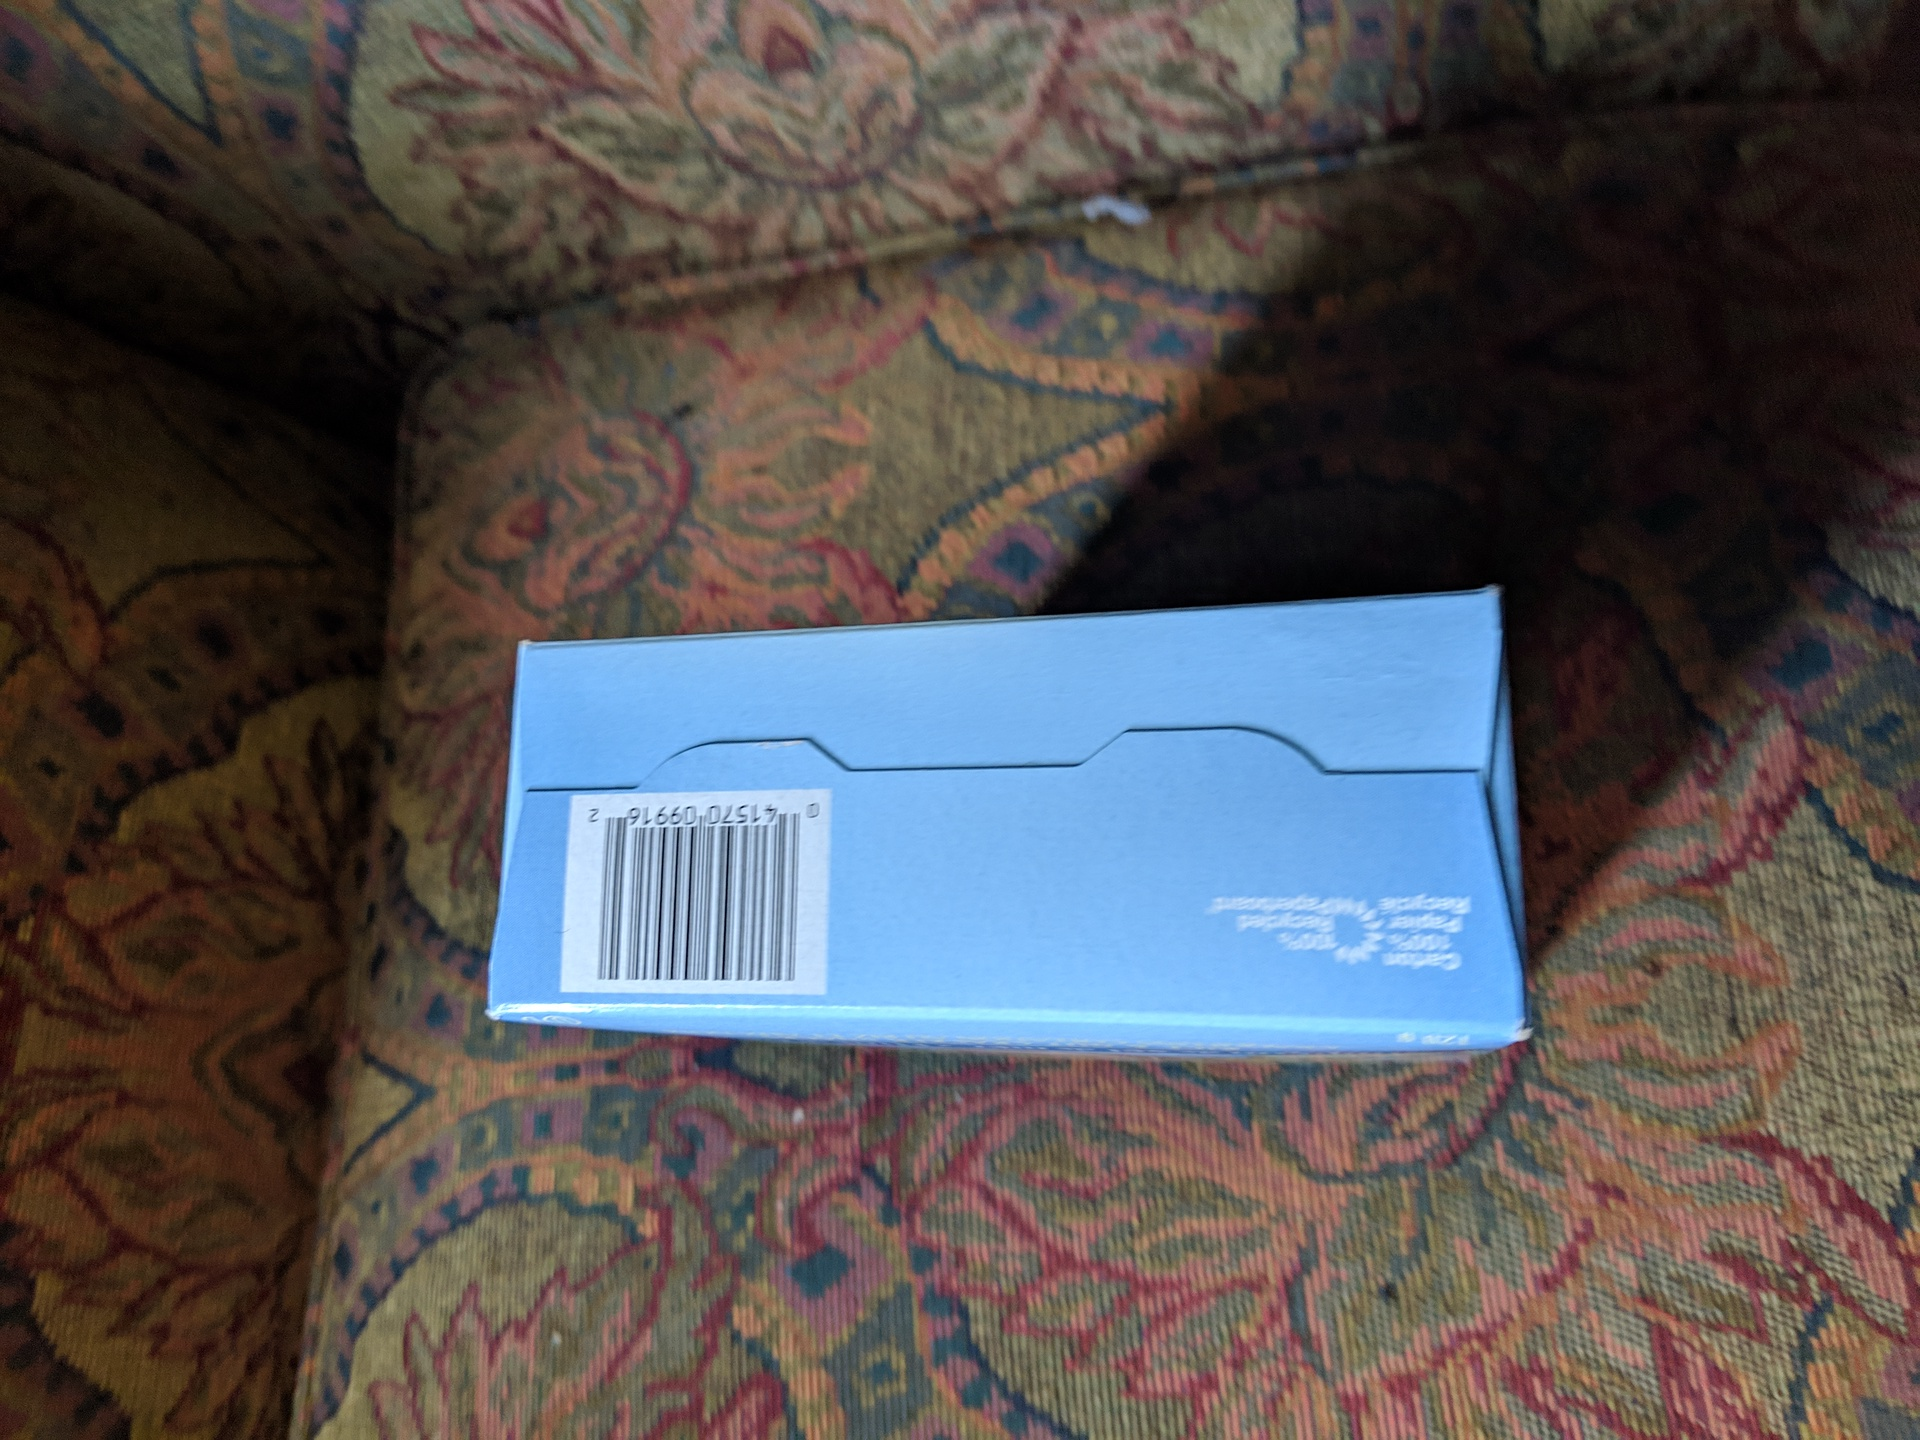blue_diamond_nut_thins_almond_seasalt: (502, 613, 1516, 1044)
